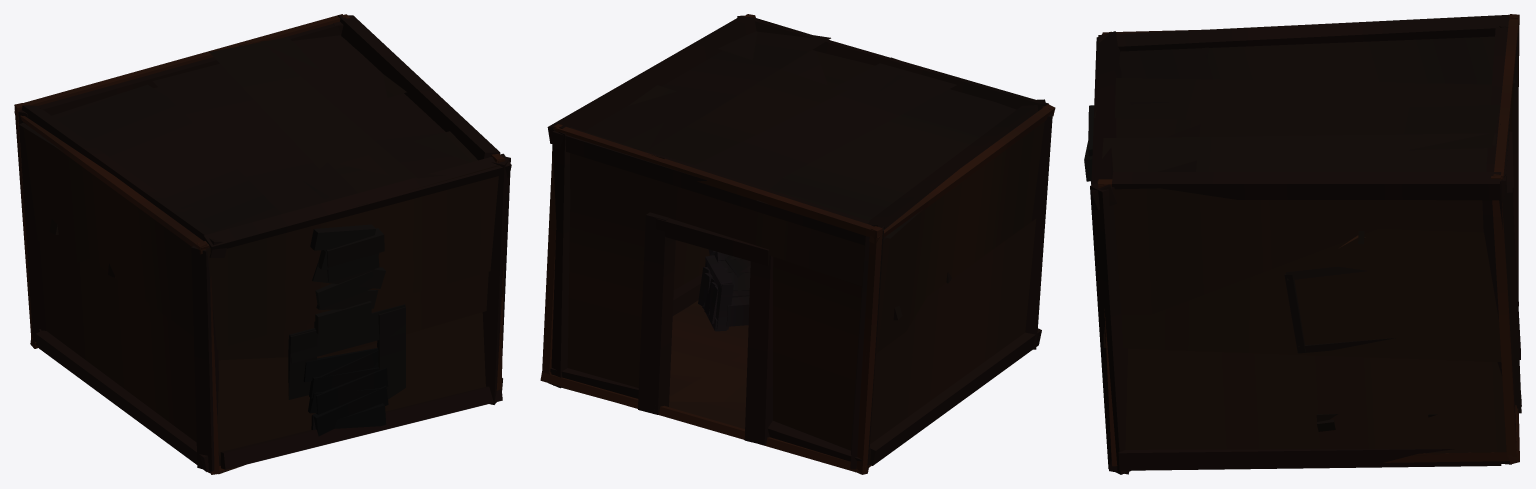
File: Room_02_quill.fbx
3 views of the same model, side by side, from view 1: azimuth 30°, elevation 25°; view 2: azimuth 150°, elevation 25°; view 3: azimuth 270°, elevation 25° (orthographic). The views are drawn at different scales.
Parts seen in each view (by area): view 1: NewLayer7; view 2: NewLayer7; view 3: NewLayer7.
Boxes of the visible parts, x1,y1,x2,y2 form: NewLayer7: (14, 14, 511, 474); NewLayer7: (540, 14, 1055, 474); NewLayer7: (1084, 14, 1521, 474).
Bounding box in the file's own units: 0.6114 × 0.4687 × 0.5983.
